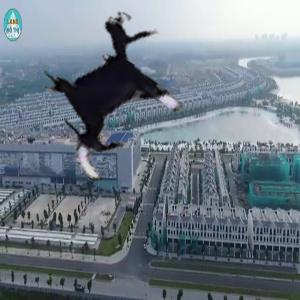drone: (27, 8, 208, 189)
